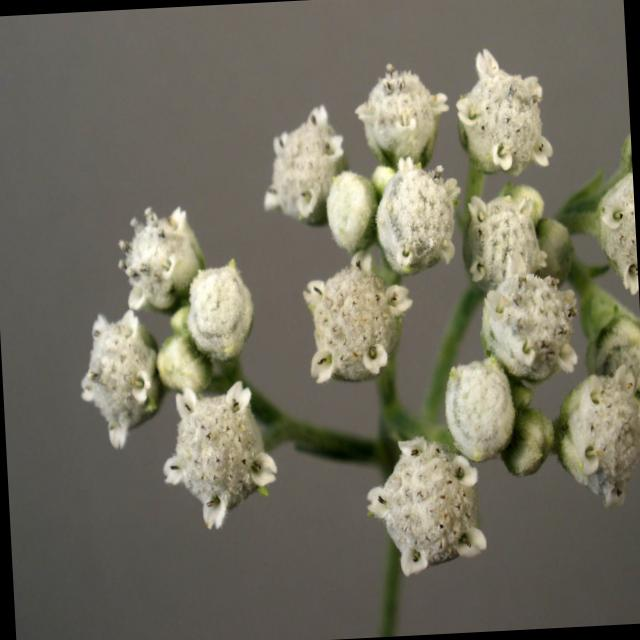Poisonous-Parthenium: (257, 41, 640, 584), (53, 190, 272, 544)
